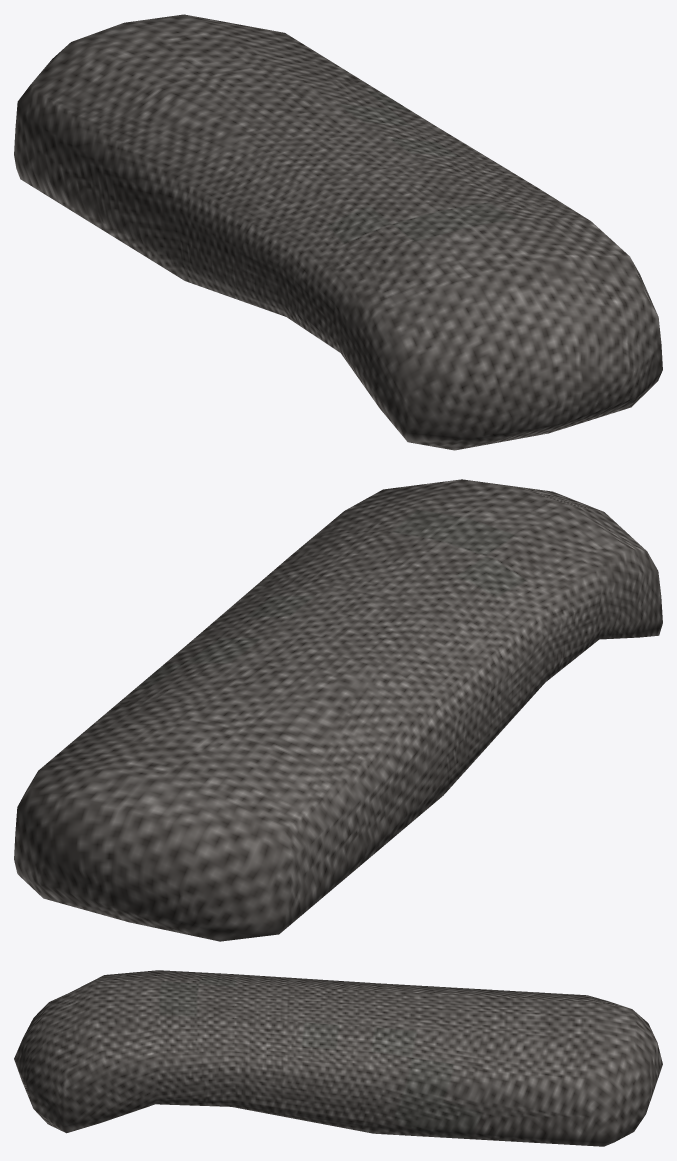
3 views of the same model, one above another, from view 1: azimuth 30°, elevation 25°; view 2: azimuth 150°, elevation 25°; view 3: azimuth 270°, elevation 25° (orthographic). The views are drawn at different scales.
Parts seen in each view (by area): view 1: part1:armrest 1; view 2: part1:armrest 1; view 3: part1:armrest 1.
Boxes of the visible parts, x1,y1,x2,y2 form: part1:armrest 1: (14,14,662,450); part1:armrest 1: (14,479,662,941); part1:armrest 1: (14,970,662,1146).
Size of the model in its own units: 0.08 by 0.0455 by 0.2402.
Materials: 1 (1 with a texture image).
